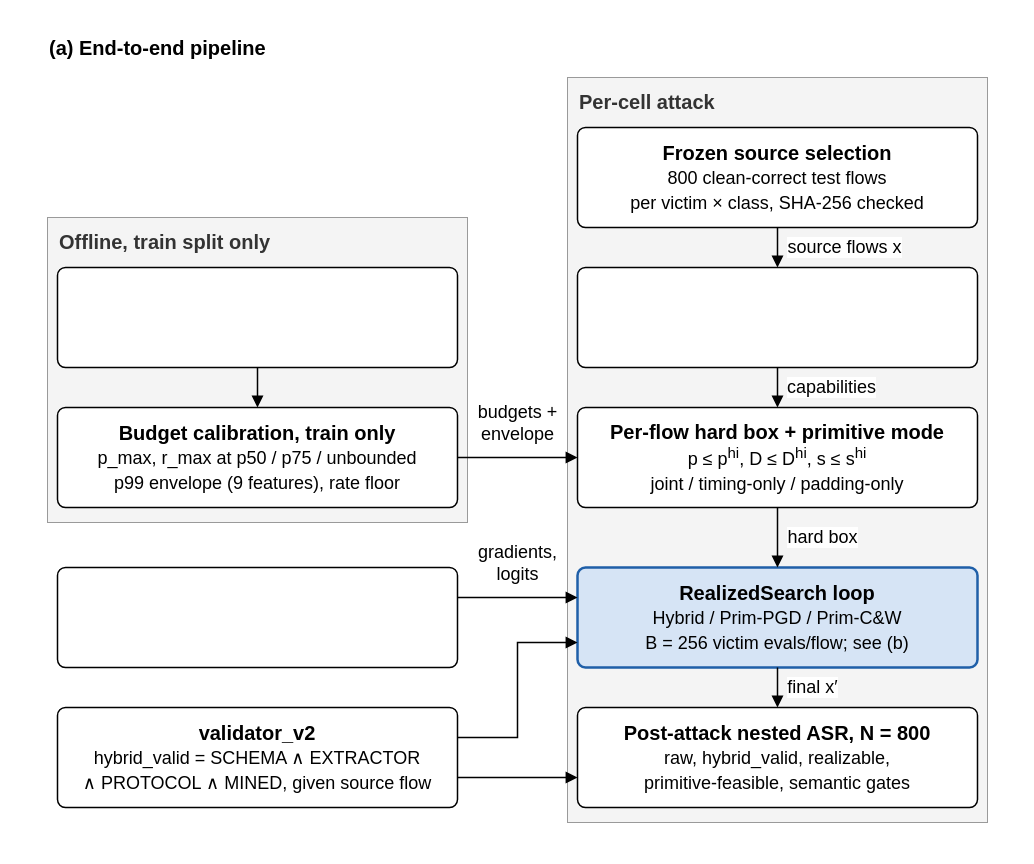
Some shapes in this 1034 by 864 pixel diagram are drawn without their labels. The centre of each missing label's shape, as x and y in pixels:
Frozen victim f MLP / CNN / FT-Transformer white-box: [257,617]
Per-flow capability inference pad_allowed, timing_allowed: [777,317]
TRAIN split X_train_pristine, y_train_cat: [257,317]
